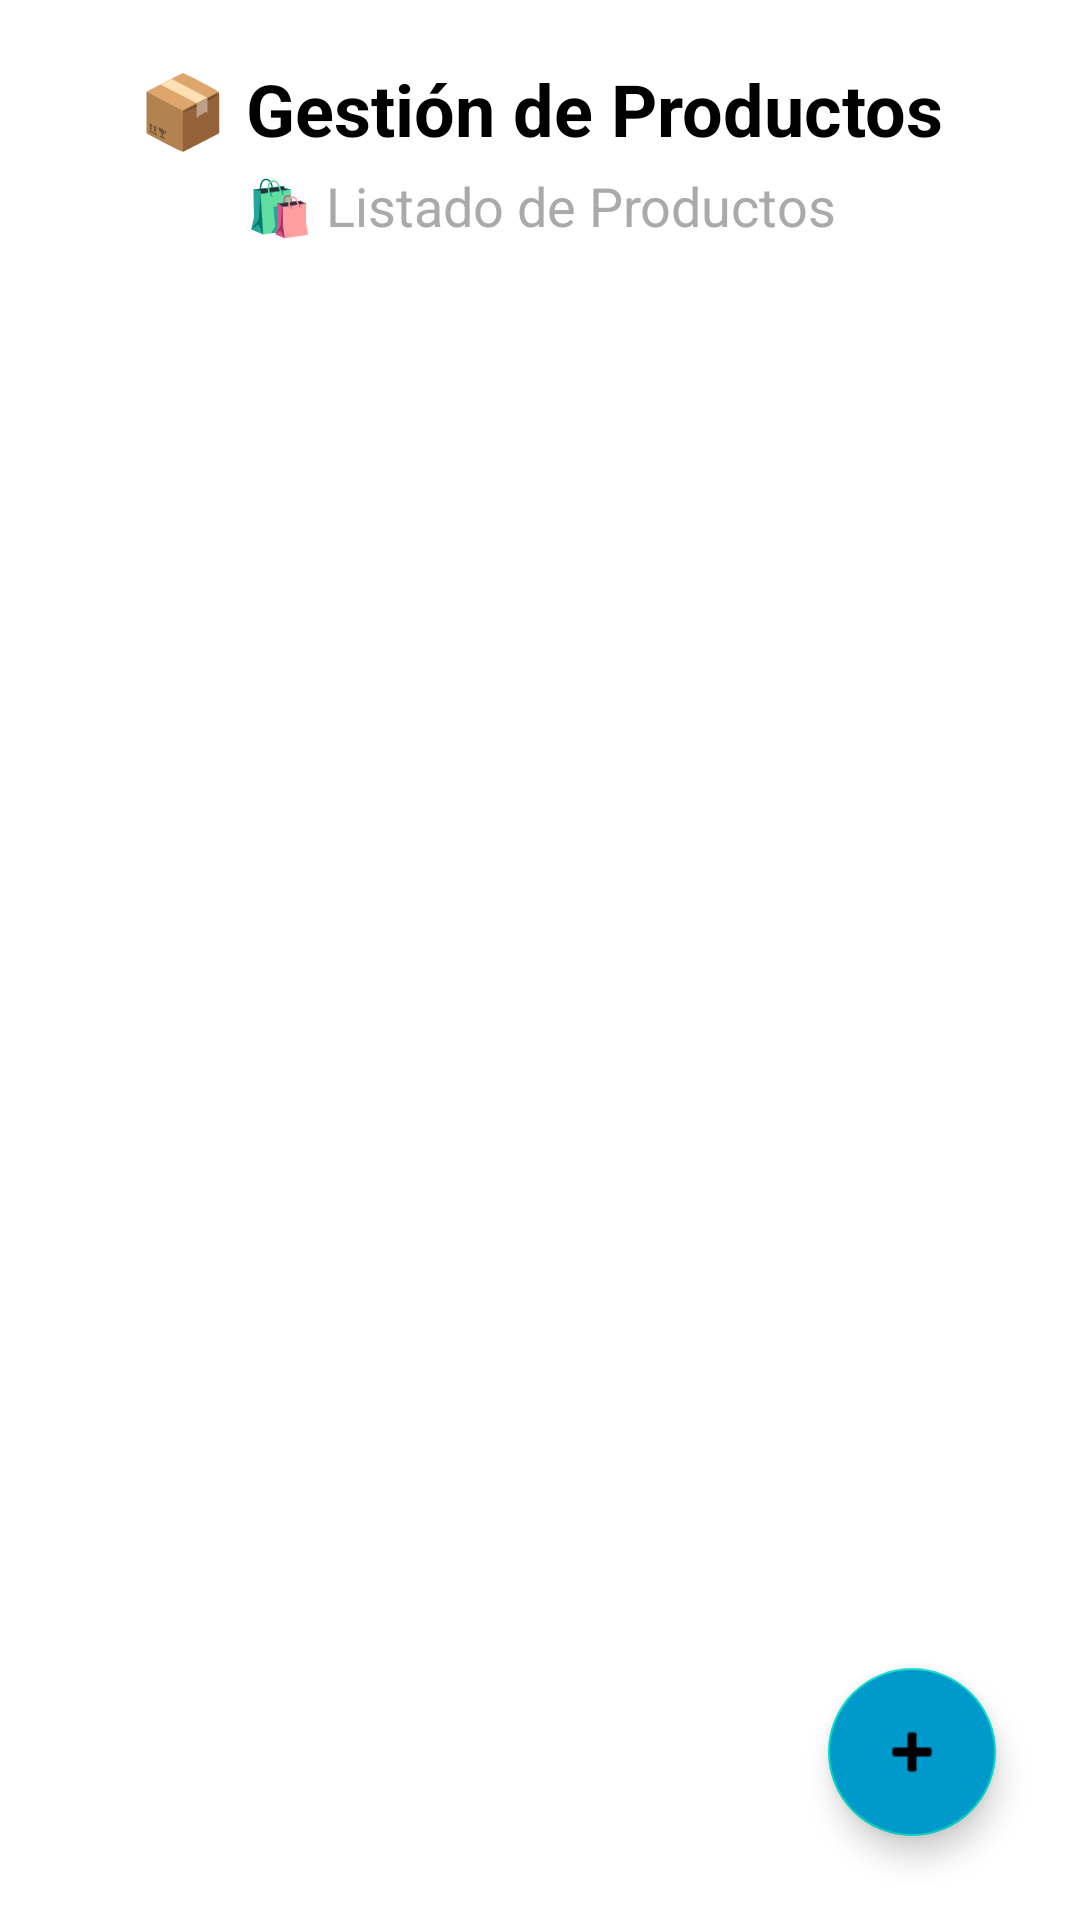

Icon click points for this 1080*1920 phone screenshot, format (x=x, y=y):
Agregar producto: (x=912, y=1752)
